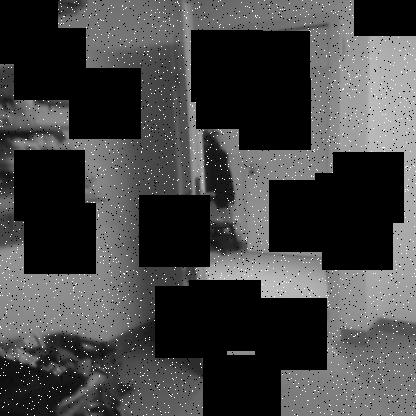Porte: (174, 0, 342, 379)
